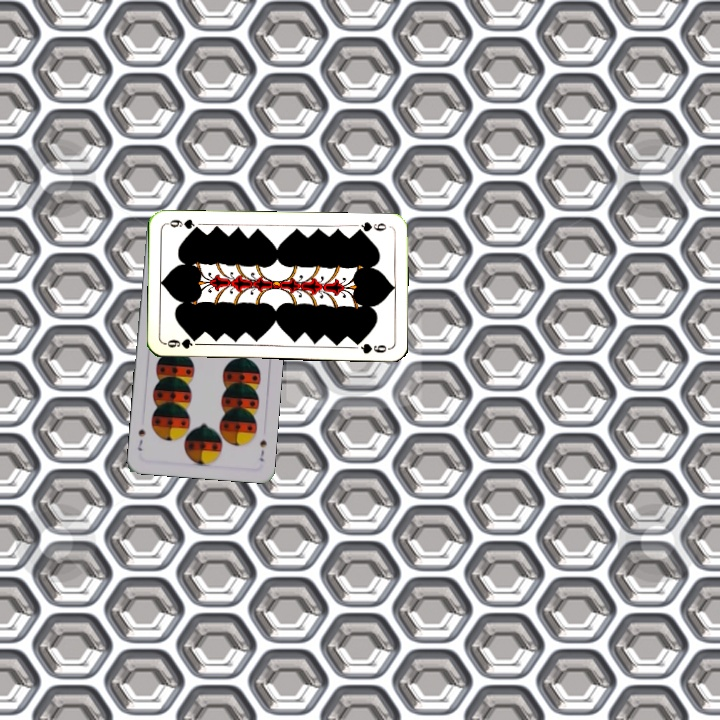G9: (352, 218, 389, 236), (162, 334, 200, 351)
S7: (256, 436, 270, 464)
